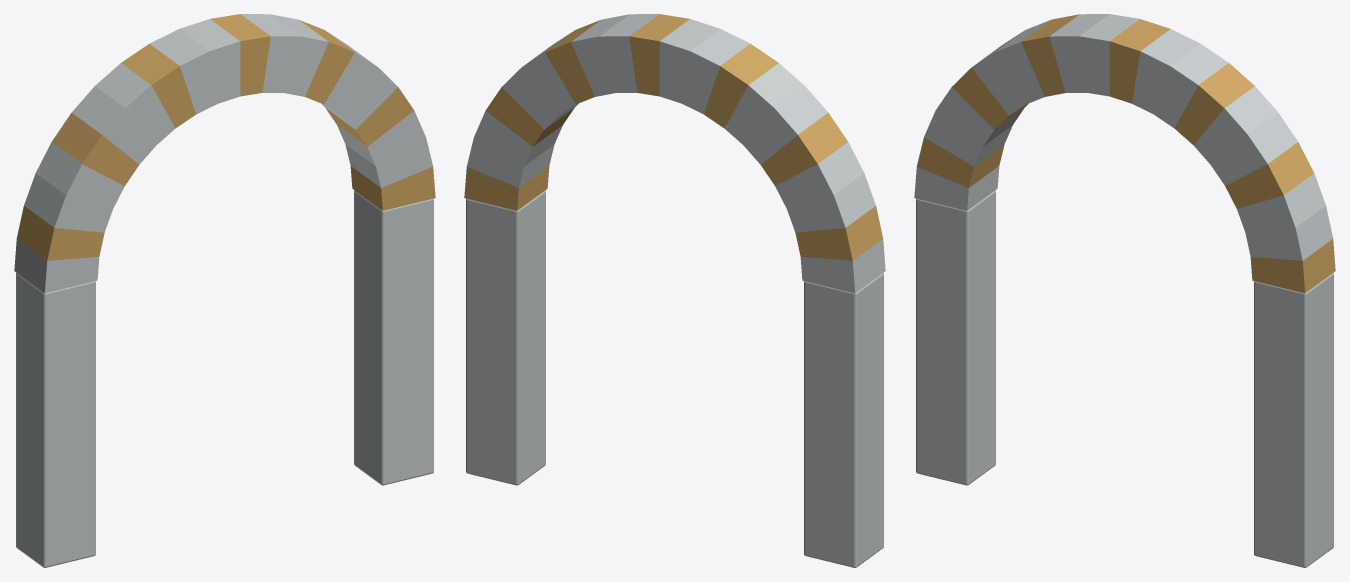
Rendered from SM_Arch.fbx.
3 renders of one model, left to right at view 1: azimuth 30°, elevation 25°; view 2: azimuth 150°, elevation 25°; view 3: azimuth 330°, elevation 25°, orthographic.
Visible parts, largest first — view 1: SM_Arch; view 2: SM_Arch; view 3: SM_Arch.
Boxes of the visible parts, <box> form: SM_Arch: <box>14,14,435,567</box>; SM_Arch: <box>464,14,885,567</box>; SM_Arch: <box>914,14,1335,567</box>.
Bounding box in the file's own units: 740 × 100 × 870.
